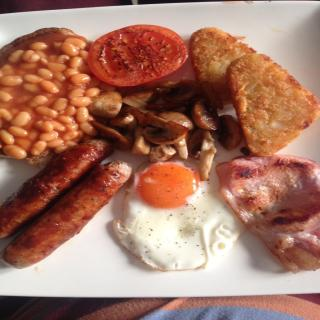tomato: (85, 25, 193, 79)
